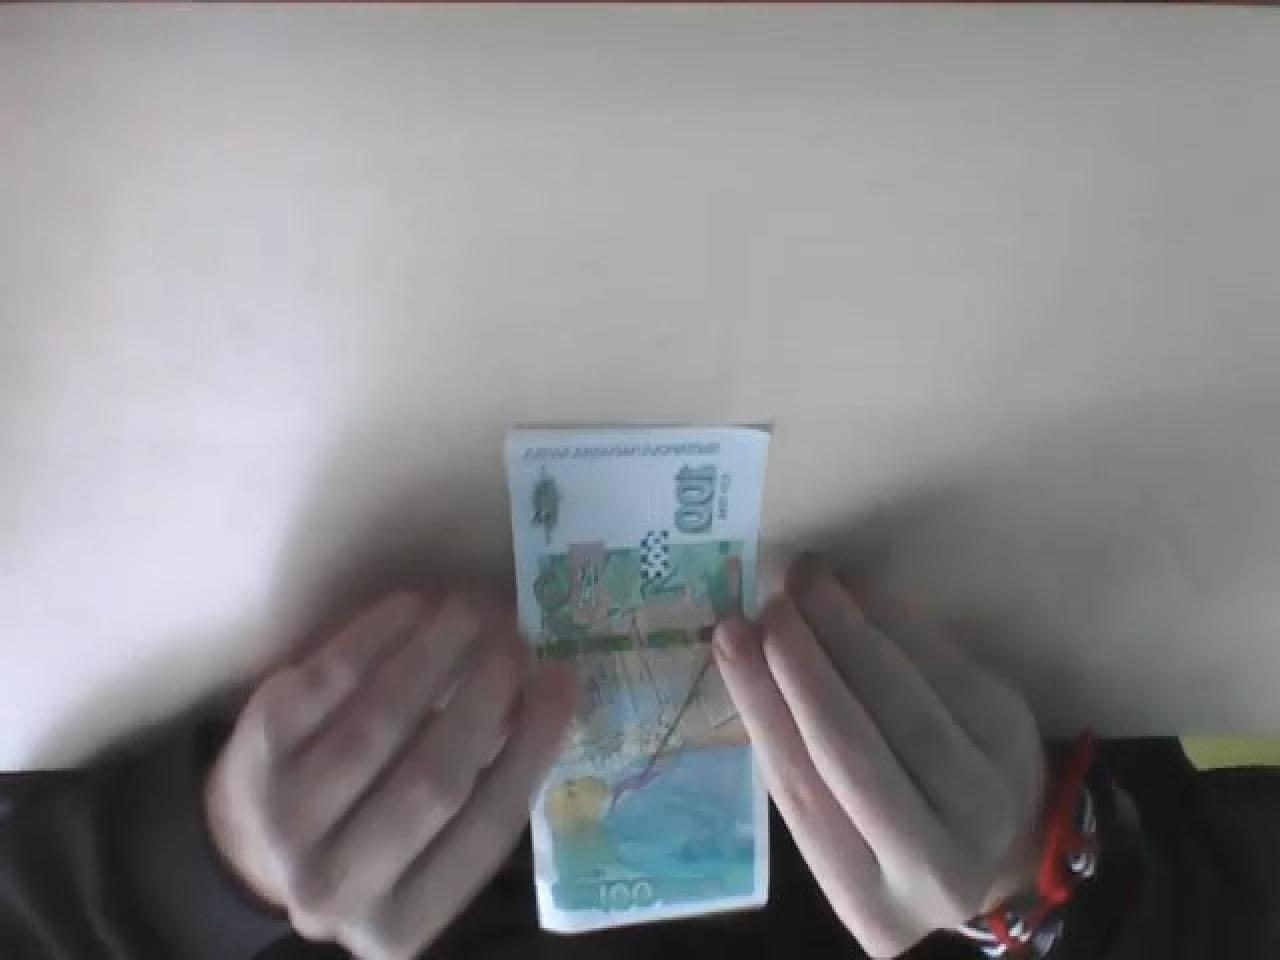100leva: (504, 418, 774, 926)
